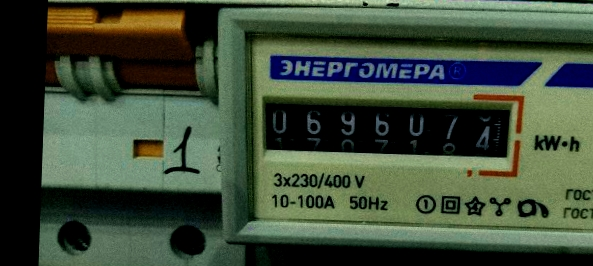0: (269, 105, 289, 135), (405, 109, 425, 137)
4: (473, 123, 492, 152)
6: (303, 107, 322, 135), (372, 108, 391, 136)
7: (440, 110, 460, 141)
9: (337, 108, 356, 137)
screen: (247, 81, 529, 178)
